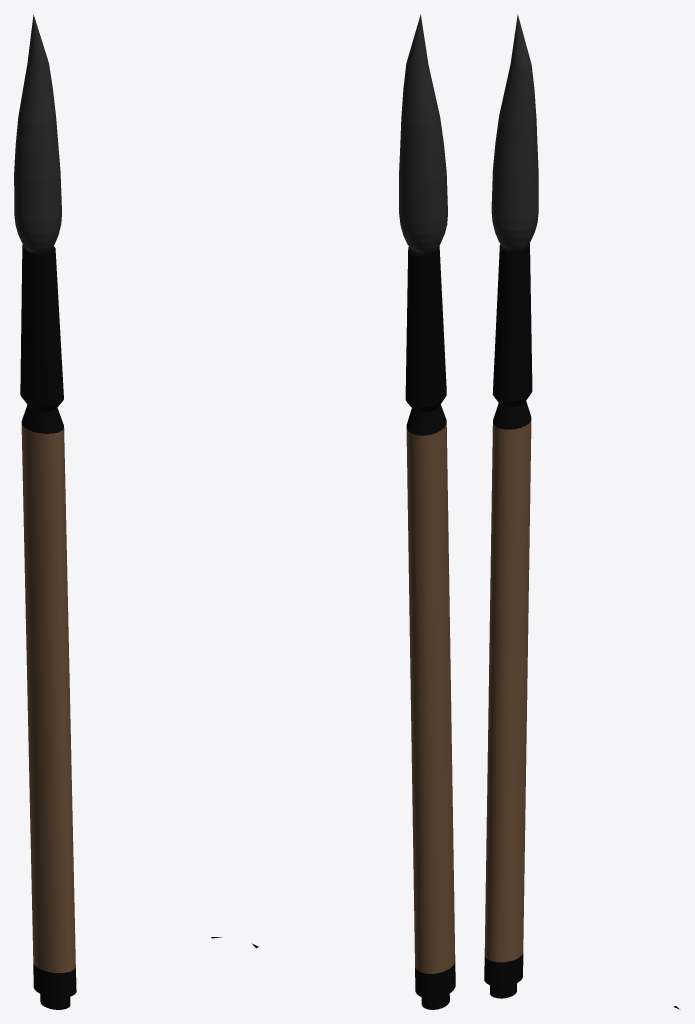
3 renders of one model, left to right at view 1: azimuth 30°, elevation 25°; view 2: azimuth 150°, elevation 25°; view 3: azimuth 330°, elevation 25°, orthographic. The views are drawn at different scales.
Parts seen in each view (by area): view 1: 1; view 2: 1; view 3: 1.
Part boxes in pixels (box(x1,y1,x2,y2)): 1: box(14, 15, 222, 1009); 1: box(252, 14, 455, 1009); 1: box(484, 14, 680, 1009).
Bounding box in the file's own units: 671 × 3190 × 231.
